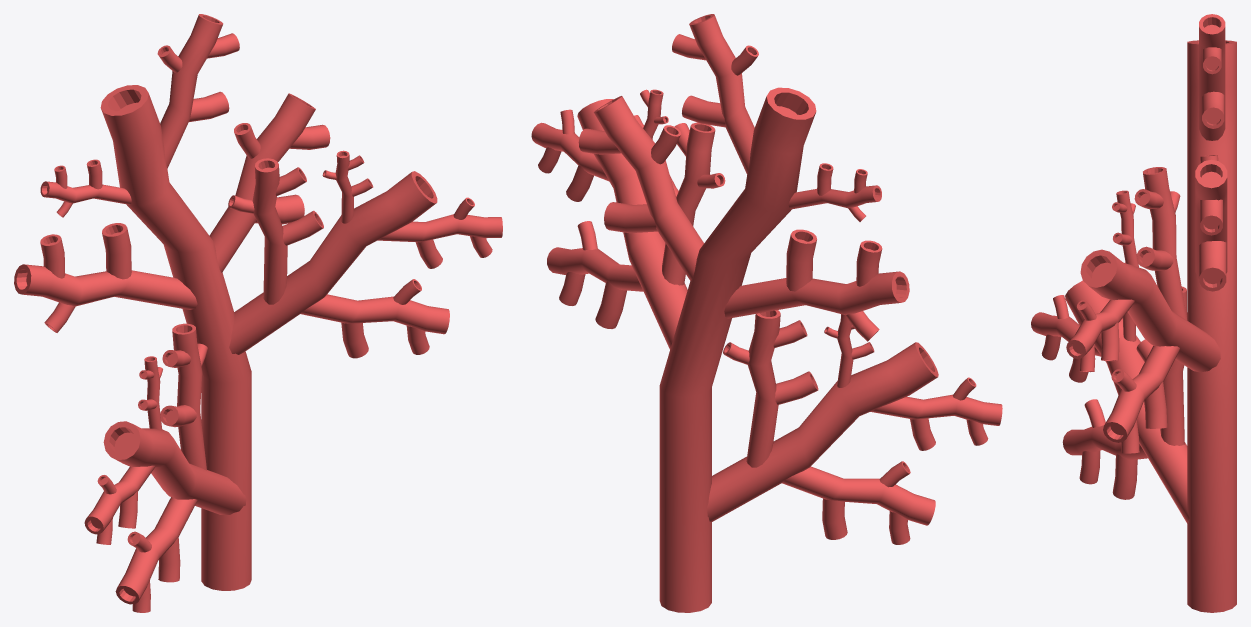
File: coral.glb
3 renders of one model, left to right at view 1: azimuth 30°, elevation 25°; view 2: azimuth 150°, elevation 25°; view 3: azimuth 270°, elevation 25°, orthographic. The views are drawn at different scales.
Visible parts, largest first — view 1: coral_4; view 2: coral_4; view 3: coral_4.
Part boxes in pixels (bbox=[...]): coral_4: bbox=[14, 14, 502, 612]; coral_4: bbox=[531, 14, 1002, 612]; coral_4: bbox=[1031, 14, 1236, 612].
Bounding box in the file's own units: 2.86 × 3.58 × 1.16.
